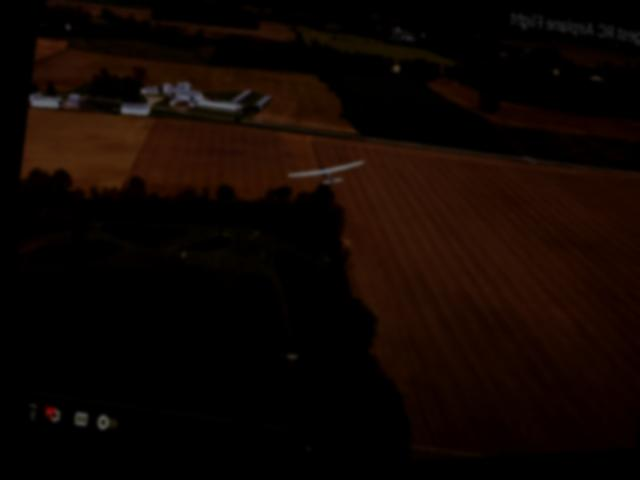plane: (282, 149, 363, 199)
